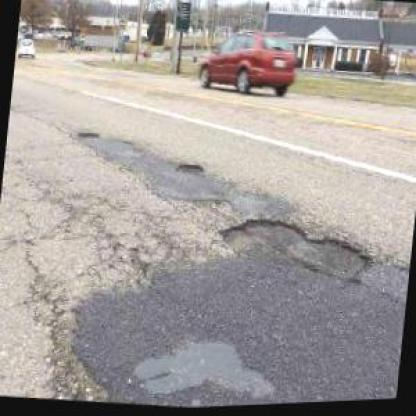pothole: (212, 211, 379, 297), (173, 159, 204, 179), (75, 126, 101, 142)
